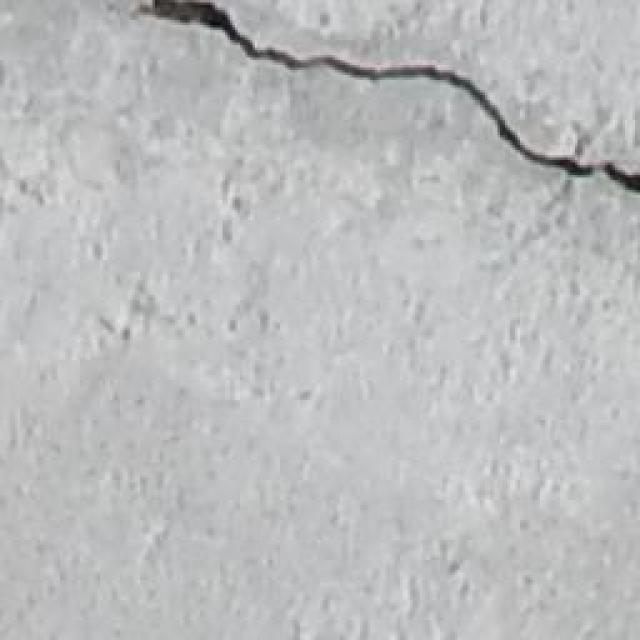concrete-crack: (126, 0, 638, 194)
